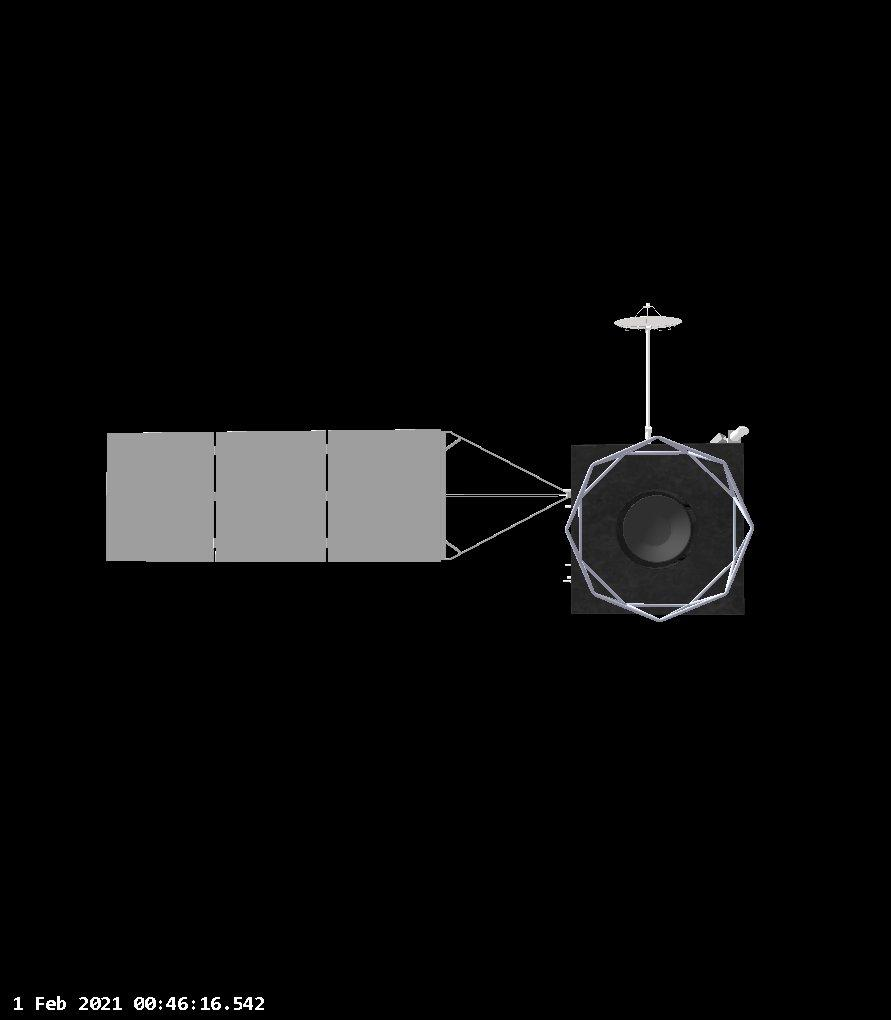antenna: (613, 300, 685, 331)
body: (568, 437, 751, 622)
solar: (103, 427, 462, 568)
thruster: (712, 423, 756, 447)
